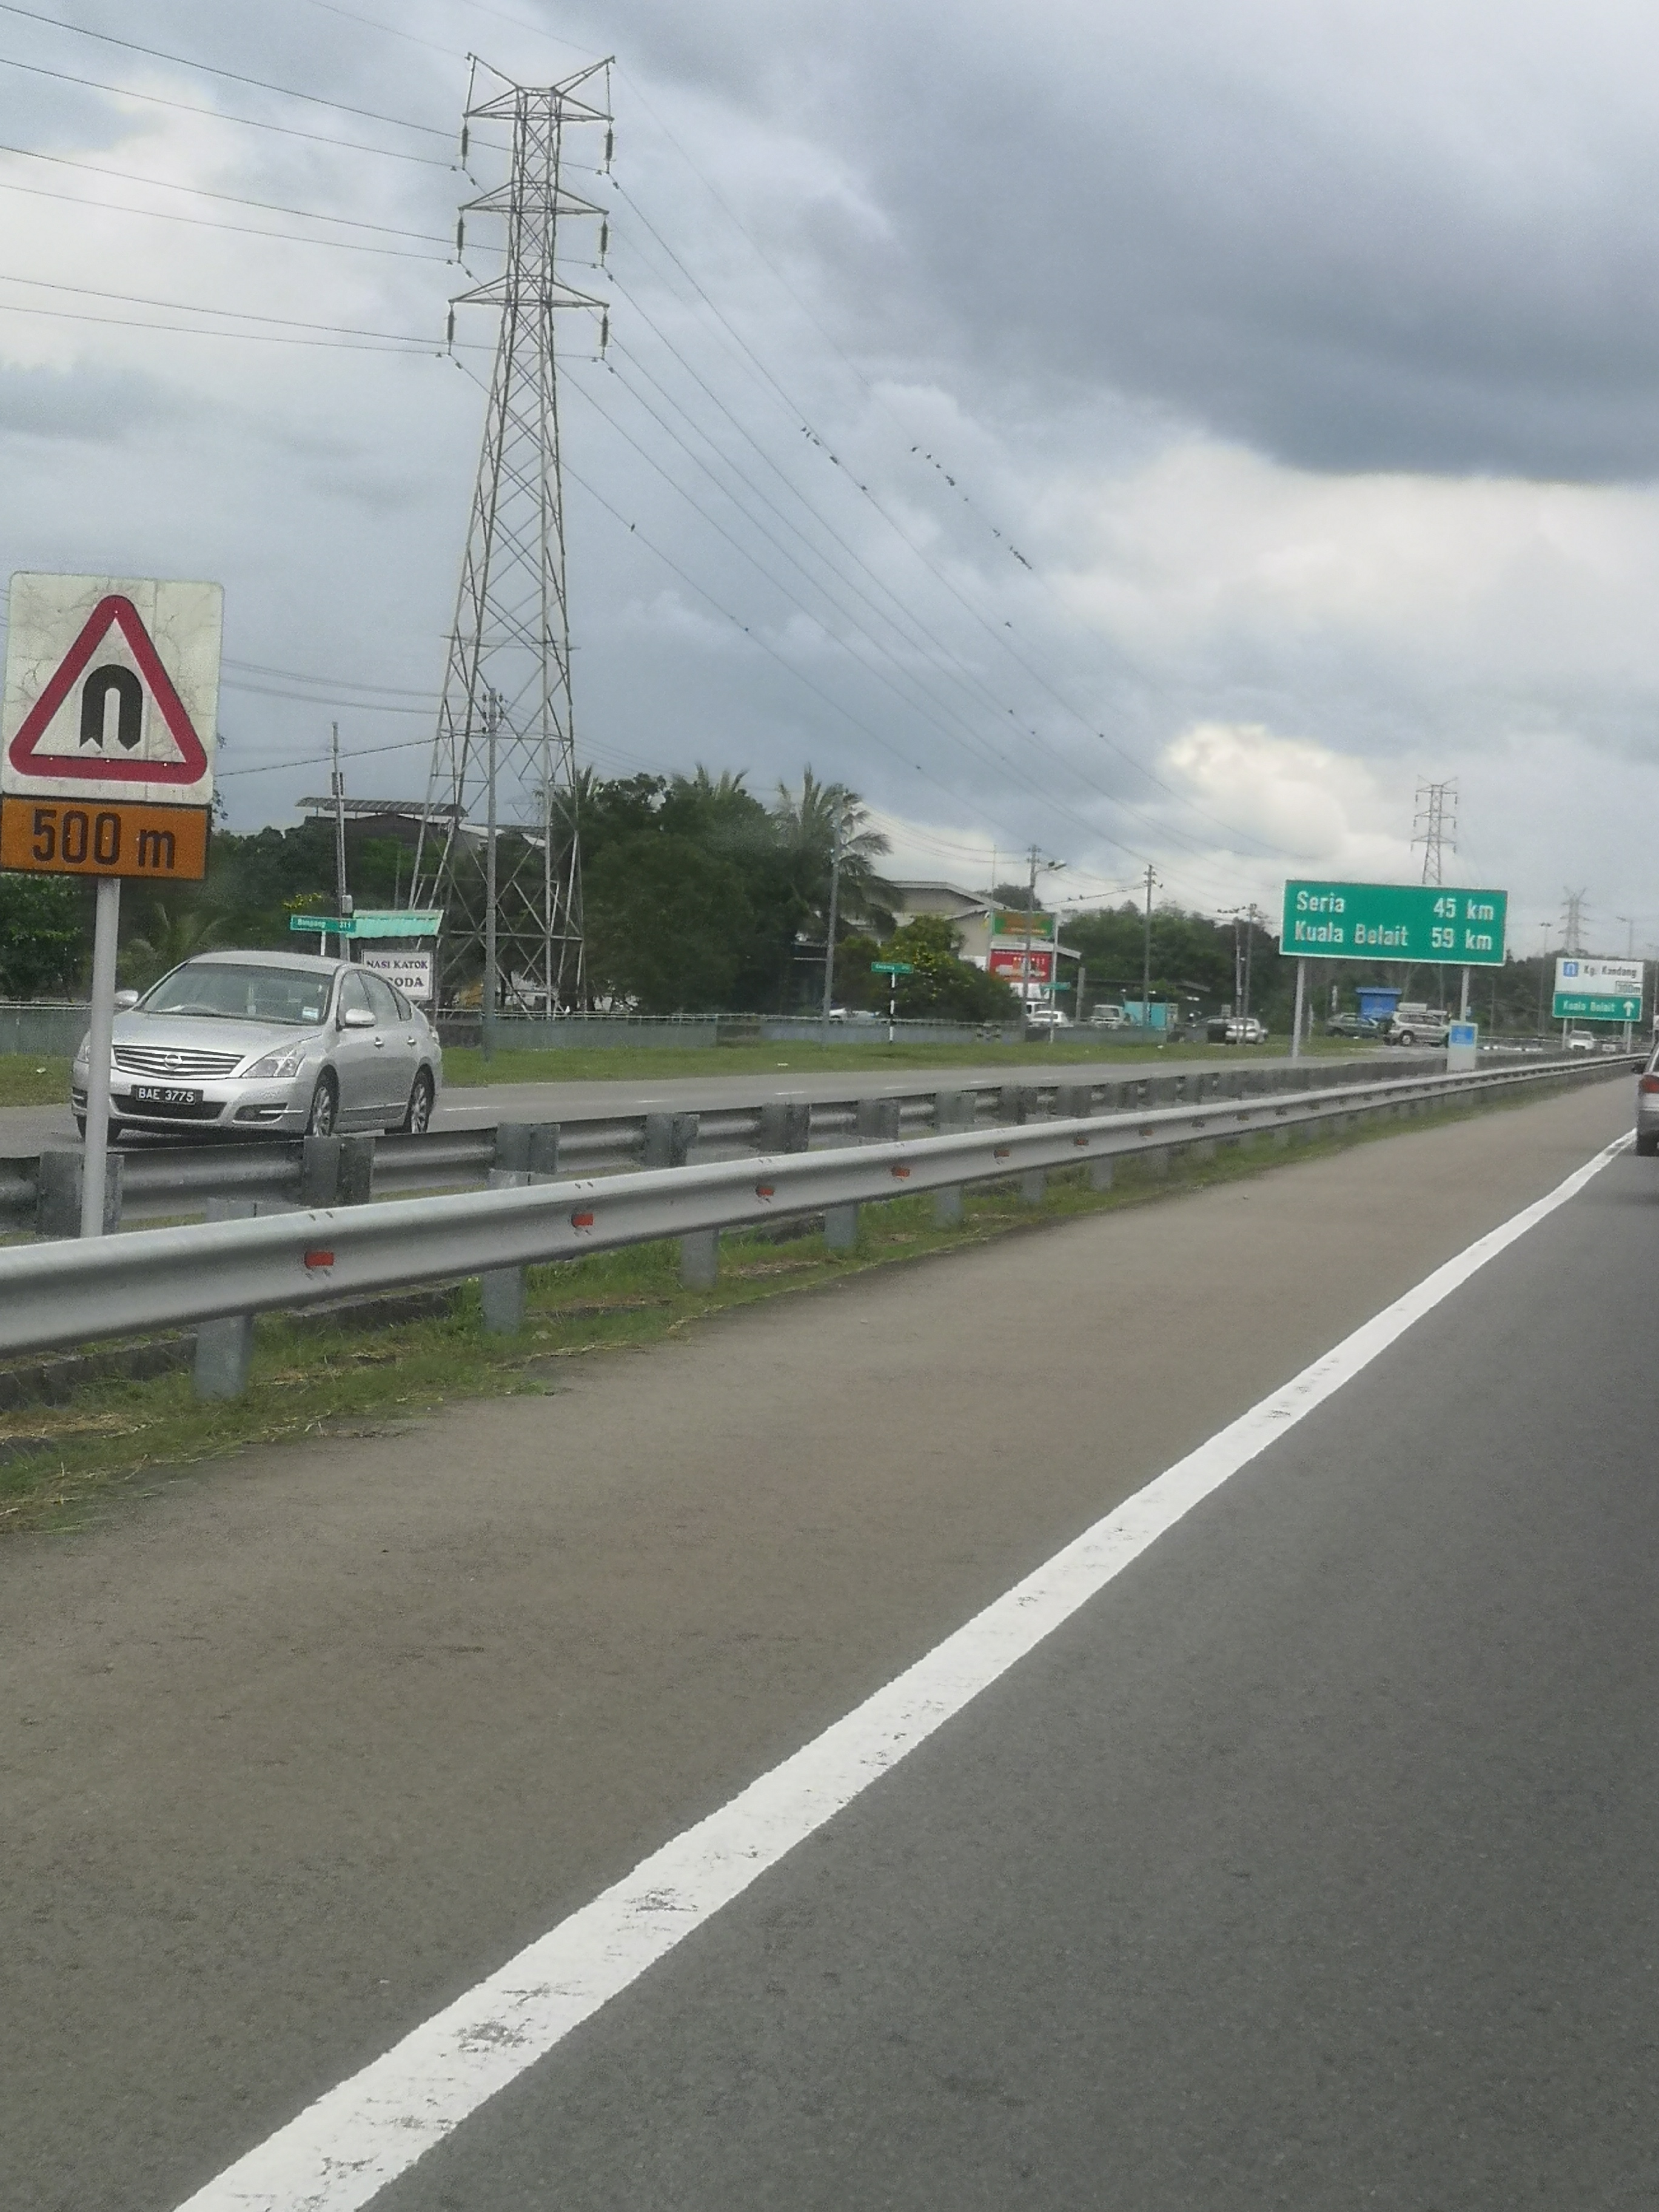U-turn: (0, 570, 221, 806)
